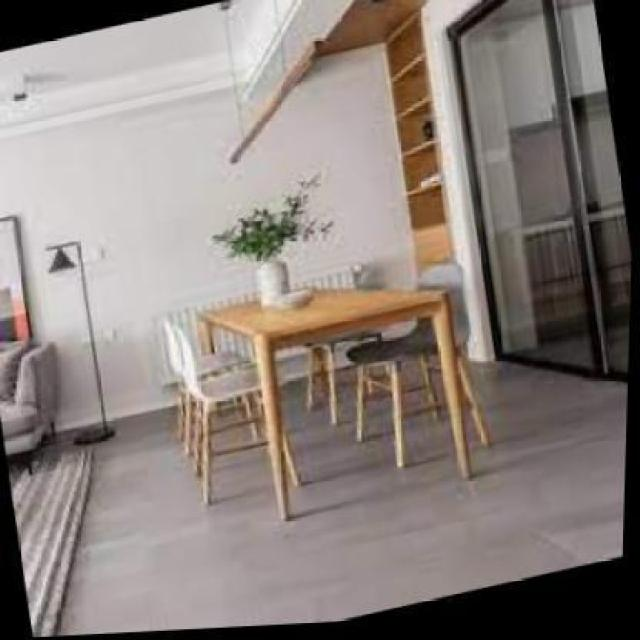tables: (194, 286, 483, 520)
